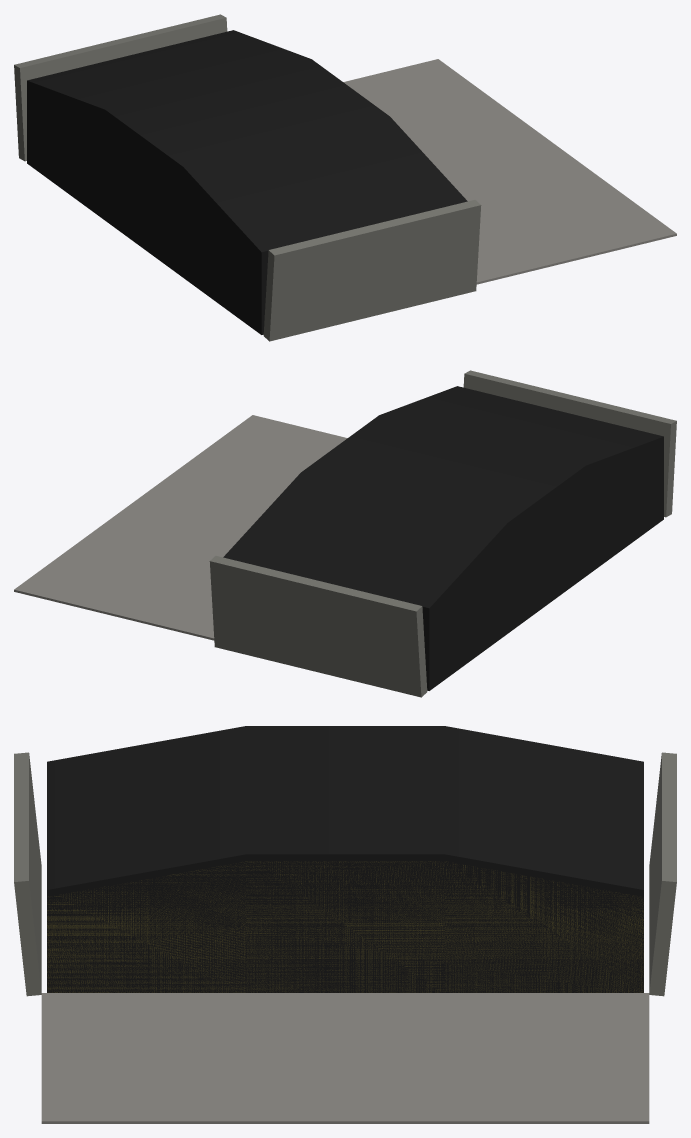
Rendered from SM_Prop_farm_clamp_1_LOD1.glb.
3 renders of one model, top to bottom at view 1: azimuth 30°, elevation 25°; view 2: azimuth 150°, elevation 25°; view 3: azimuth 270°, elevation 25°, orthographic. The views are drawn at different scales.
Parts seen in each view (by area): view 1: SM_Prop_farm_clamp_1_LOD1; view 2: SM_Prop_farm_clamp_1_LOD1; view 3: SM_Prop_farm_clamp_1_LOD1.
Boxes of the visible parts, box(x1,y1,x2,y2) form: SM_Prop_farm_clamp_1_LOD1: box(14, 14, 676, 341); SM_Prop_farm_clamp_1_LOD1: box(14, 370, 676, 697); SM_Prop_farm_clamp_1_LOD1: box(14, 726, 676, 1123).
Bounding box in the file's own units: 12 × 3.09 × 13.1.
